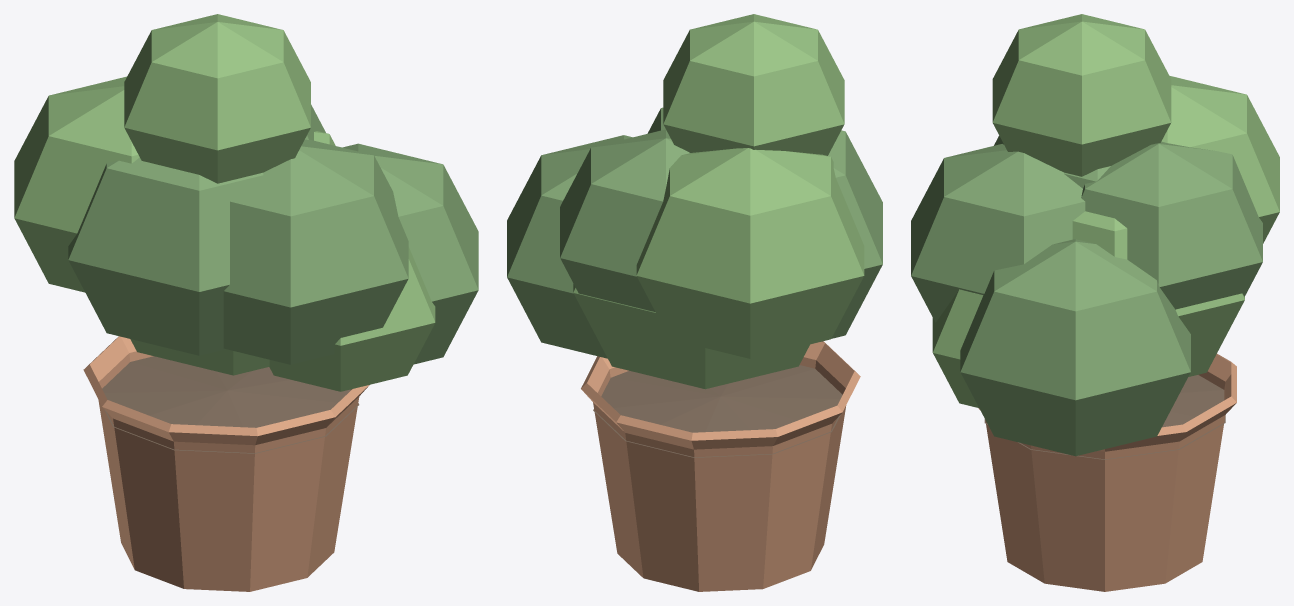
File: fv_shrub.glb
The picture shows the model from 3 angles, left to right: view 1: azimuth 30°, elevation 25°; view 2: azimuth 150°, elevation 25°; view 3: azimuth 270°, elevation 25°; orthographic projection. The views are drawn at different scales.
Parts seen in each view (by area): view 1: fv_shrub; view 2: fv_shrub; view 3: fv_shrub.
Part boxes in pixels (<box>): fv_shrub: <box>14,14,478,591</box>; fv_shrub: <box>507,14,882,591</box>; fv_shrub: <box>911,14,1279,591</box>.
Size of the model in its own units: 1.52 by 1.89 by 1.22.
